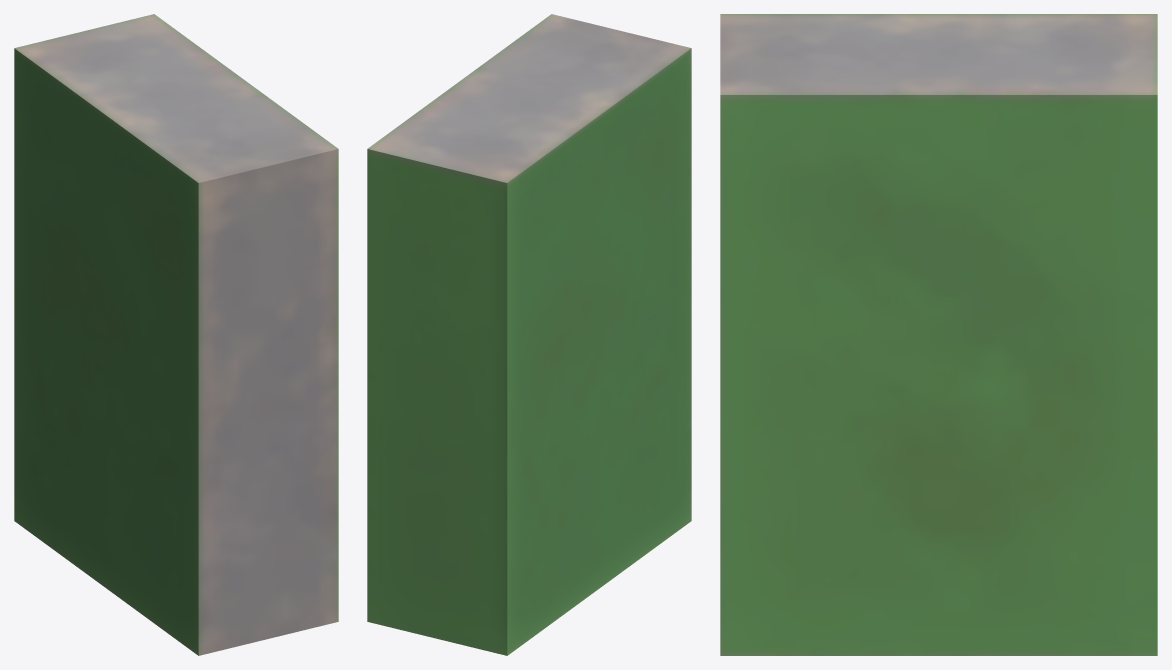
The model's file is Pfb_Indoors_Books__7.fbx.
The picture shows the model from 3 angles, left to right: view 1: azimuth 30°, elevation 25°; view 2: azimuth 150°, elevation 25°; view 3: azimuth 270°, elevation 25°; orthographic projection. The views are drawn at different scales.
Parts seen in each view (by area): view 1: Mat_Indoors_Books_01; view 2: Mat_Indoors_Books_01; view 3: Mat_Indoors_Books_01.
Part boxes in pixels (x1,y1,x2,y2): Mat_Indoors_Books_01: (14,14,338,655); Mat_Indoors_Books_01: (367,14,691,655); Mat_Indoors_Books_01: (720,14,1157,655).
Bounding box in the file's own units: 0.1423 × 0.4591 × 0.3245.
1 material, 1 textured.
